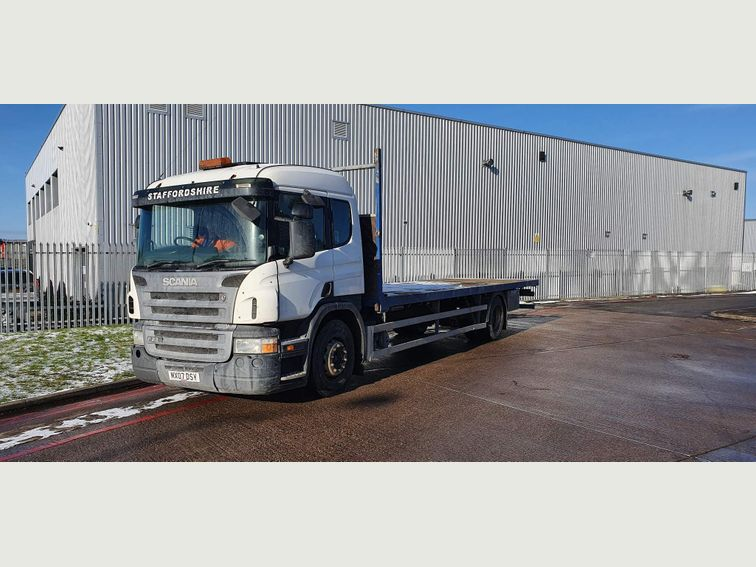Semi: (126, 156, 538, 397)
